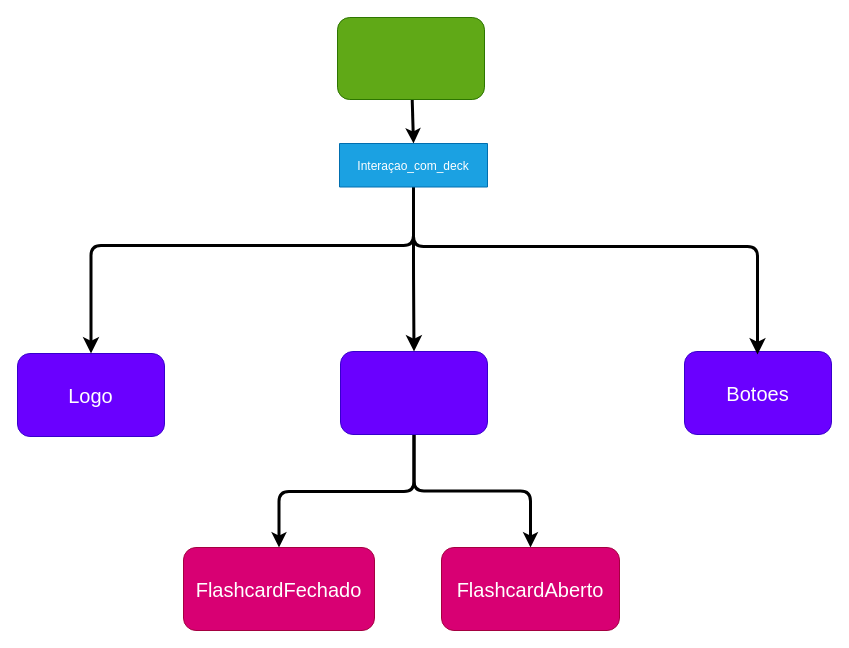
This 849x648 diagram has some shape labels left out. Each missing label, with the centre of its shape:
App: (410,58)
Deck: (414,392)
